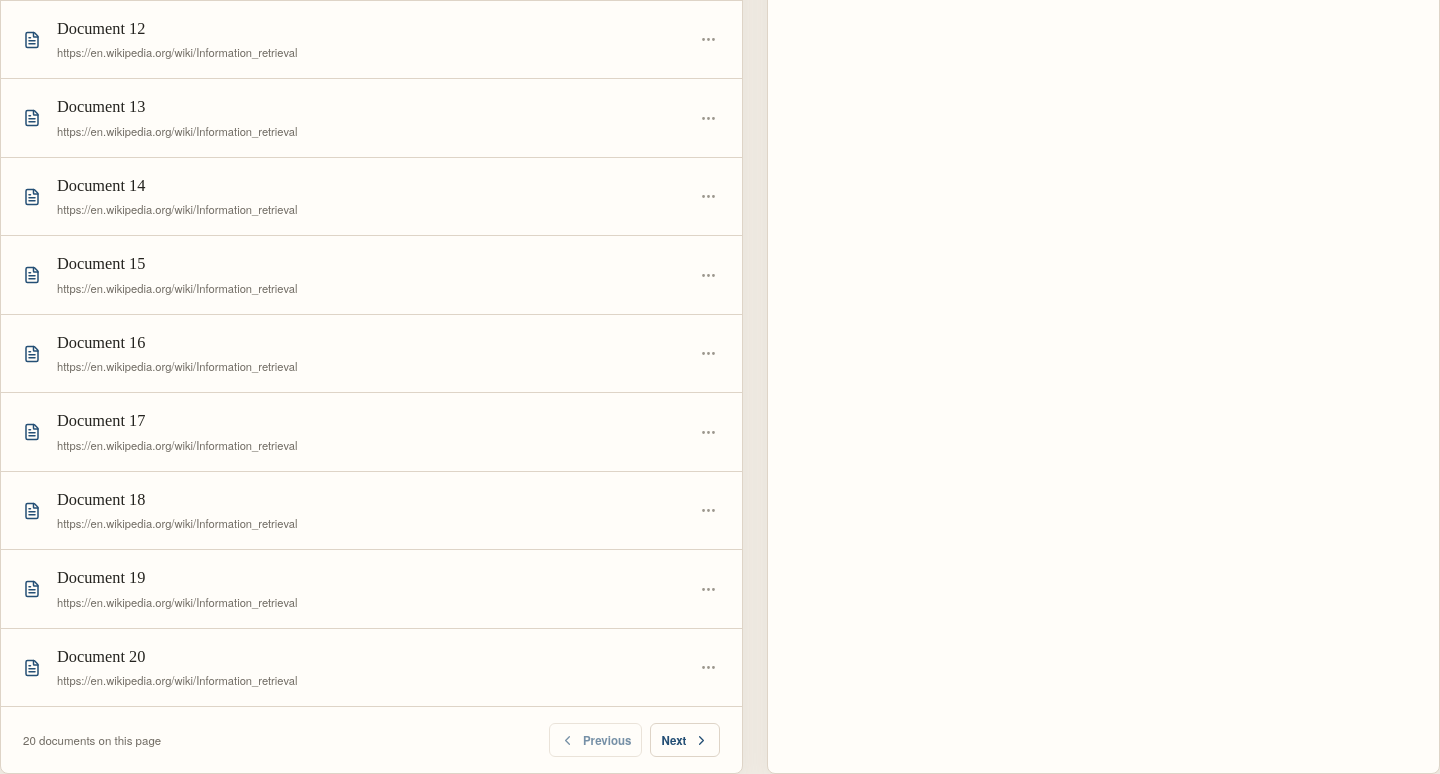
LibraryPage › moves between pages and disables next at the final short page
The image size is (1440, 774).
(page scrolled)
Expected: the button with aria-label "Previous page" is disabled, [549,724,642,758]
Step 1. Click the button with aria-label "Next page" → (685, 740), box [650,724,720,758]
(page scrolled)
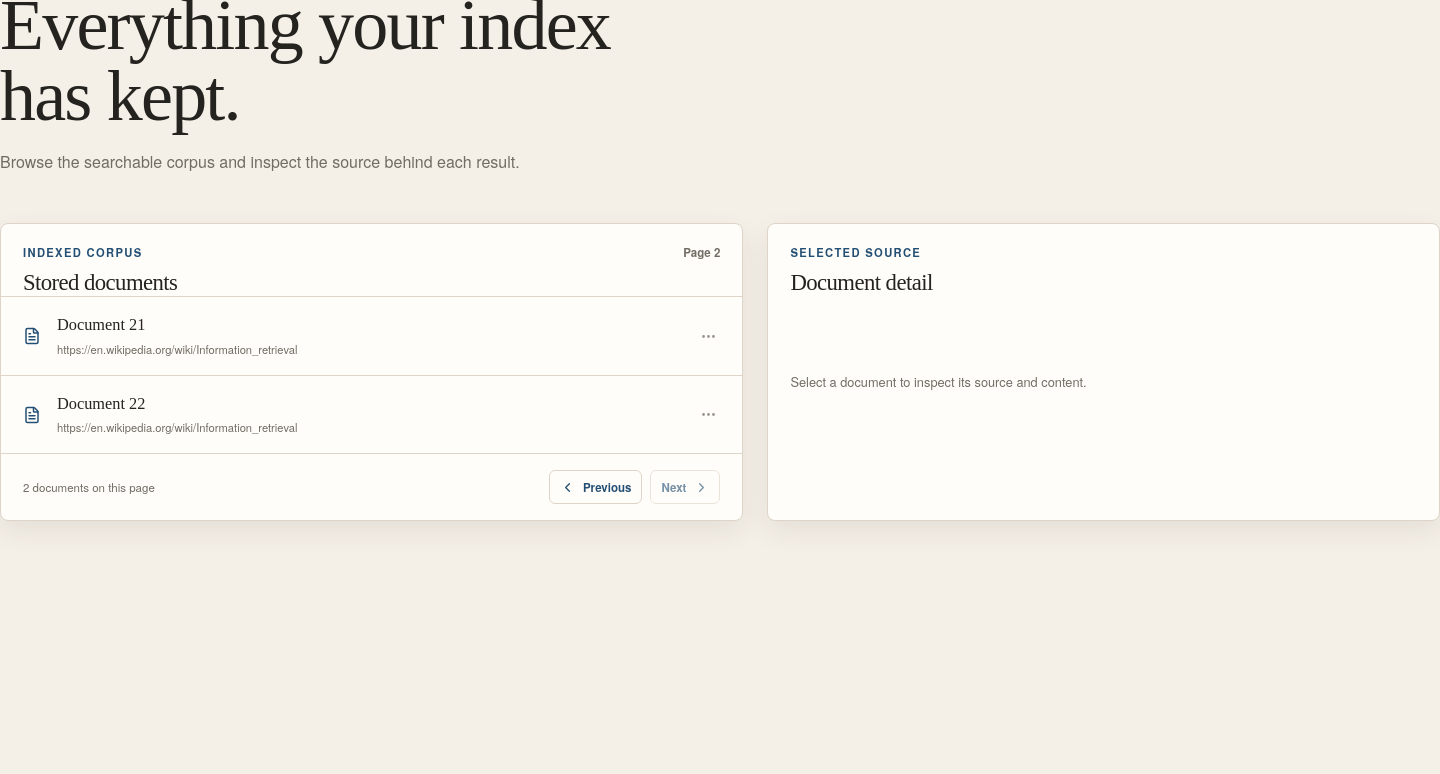
Expected: the text "Document 21" is shown, [57,316,145,334]
Expected: the button with aria-label "Next page" is disabled, [650,470,720,504]
Expected: the button with aria-label "Previous page" is enabled, [549,470,642,504]
